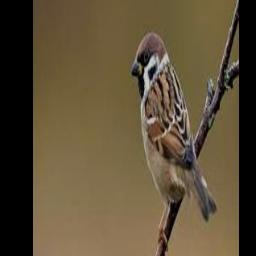Sparrow: (131, 33, 217, 256)
